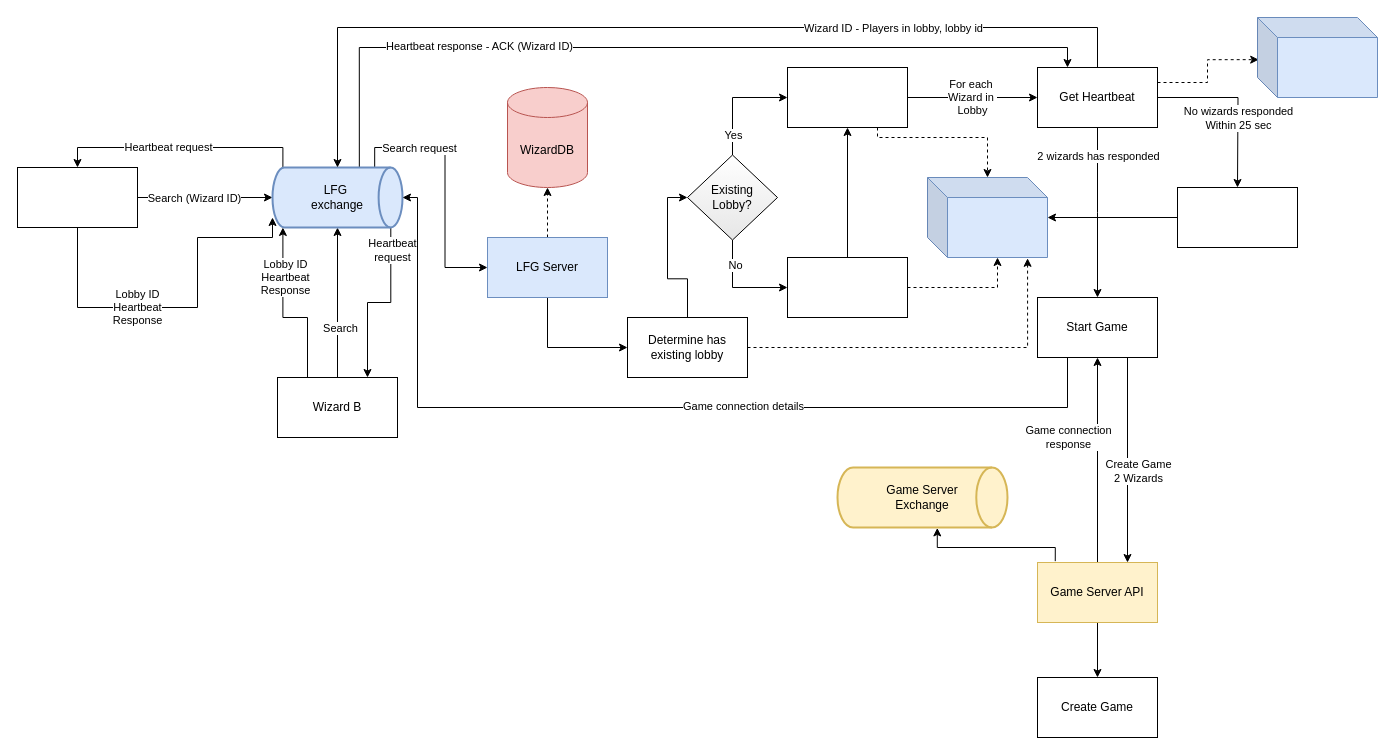
The diagram is 1395 pixels wide and 755 high, and some of its shapes have lost their labels. The box of each missing label's shape, as (x1, y1, x2, y2) in pixels:
Add Wizard to Lobby: (786, 66, 908, 128)
Create Lobby: (786, 256, 908, 318)
Heartbeat cache: (1256, 16, 1378, 98)
Lobby cache: (926, 176, 1048, 258)
Remove Lobby: (1176, 186, 1298, 248)
Wizard A: (16, 166, 138, 228)
